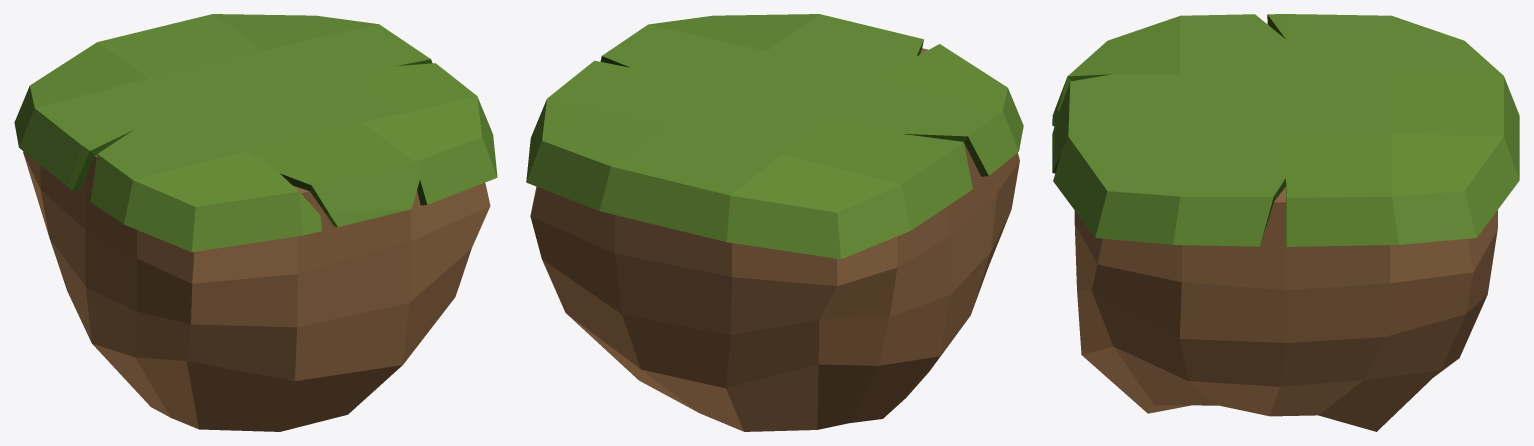
Rendered from ground2_top2.glb.
3 views of the same model, side by side, from view 1: azimuth 30°, elevation 25°; view 2: azimuth 150°, elevation 25°; view 3: azimuth 270°, elevation 25° (orthographic). The views are drawn at different scales.
Visible parts, largest first — view 1: Ground2; view 2: Ground2; view 3: Ground2.
Part boxes in pixels (x1,y1,x2,y2): Ground2: (14,14,497,431); Ground2: (526,14,1023,431); Ground2: (1052,14,1519,431).
Bounding box in the file's own units: 2.21 × 1.58 × 2.21.
Materials: 1 (1 with a texture image).
